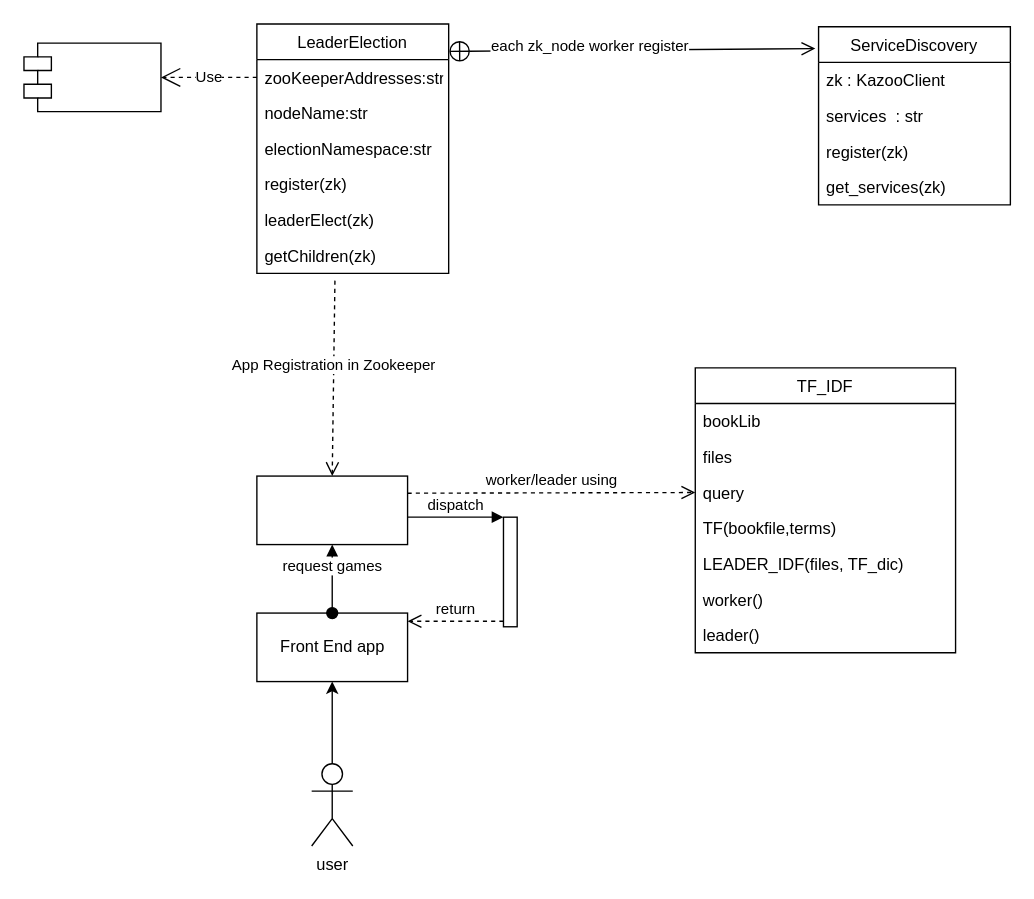
Image size: 1034x899. Some labels were removed from this diagram. The shapes that lost their labels are listed below. From the top down, each one's centre as x and y in pixels, then its label:
At (x=92, y=77): "zookeeper".
At (x=332, y=510): "Flask APP runing Worker/Leader".
